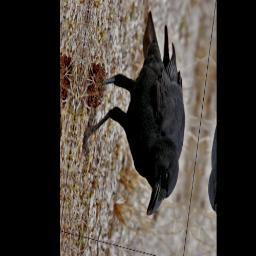Crow: (76, 0, 199, 224)
